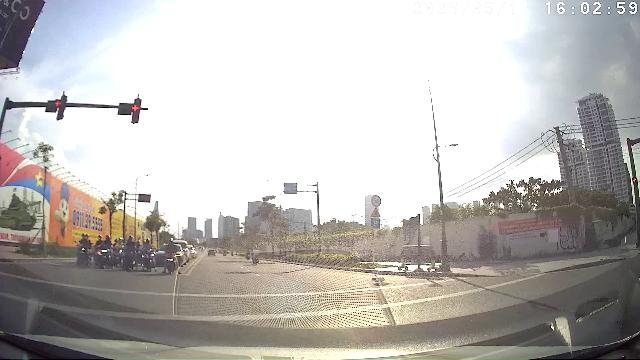127-toc-do-toi-da-50: (371, 195, 381, 207)
